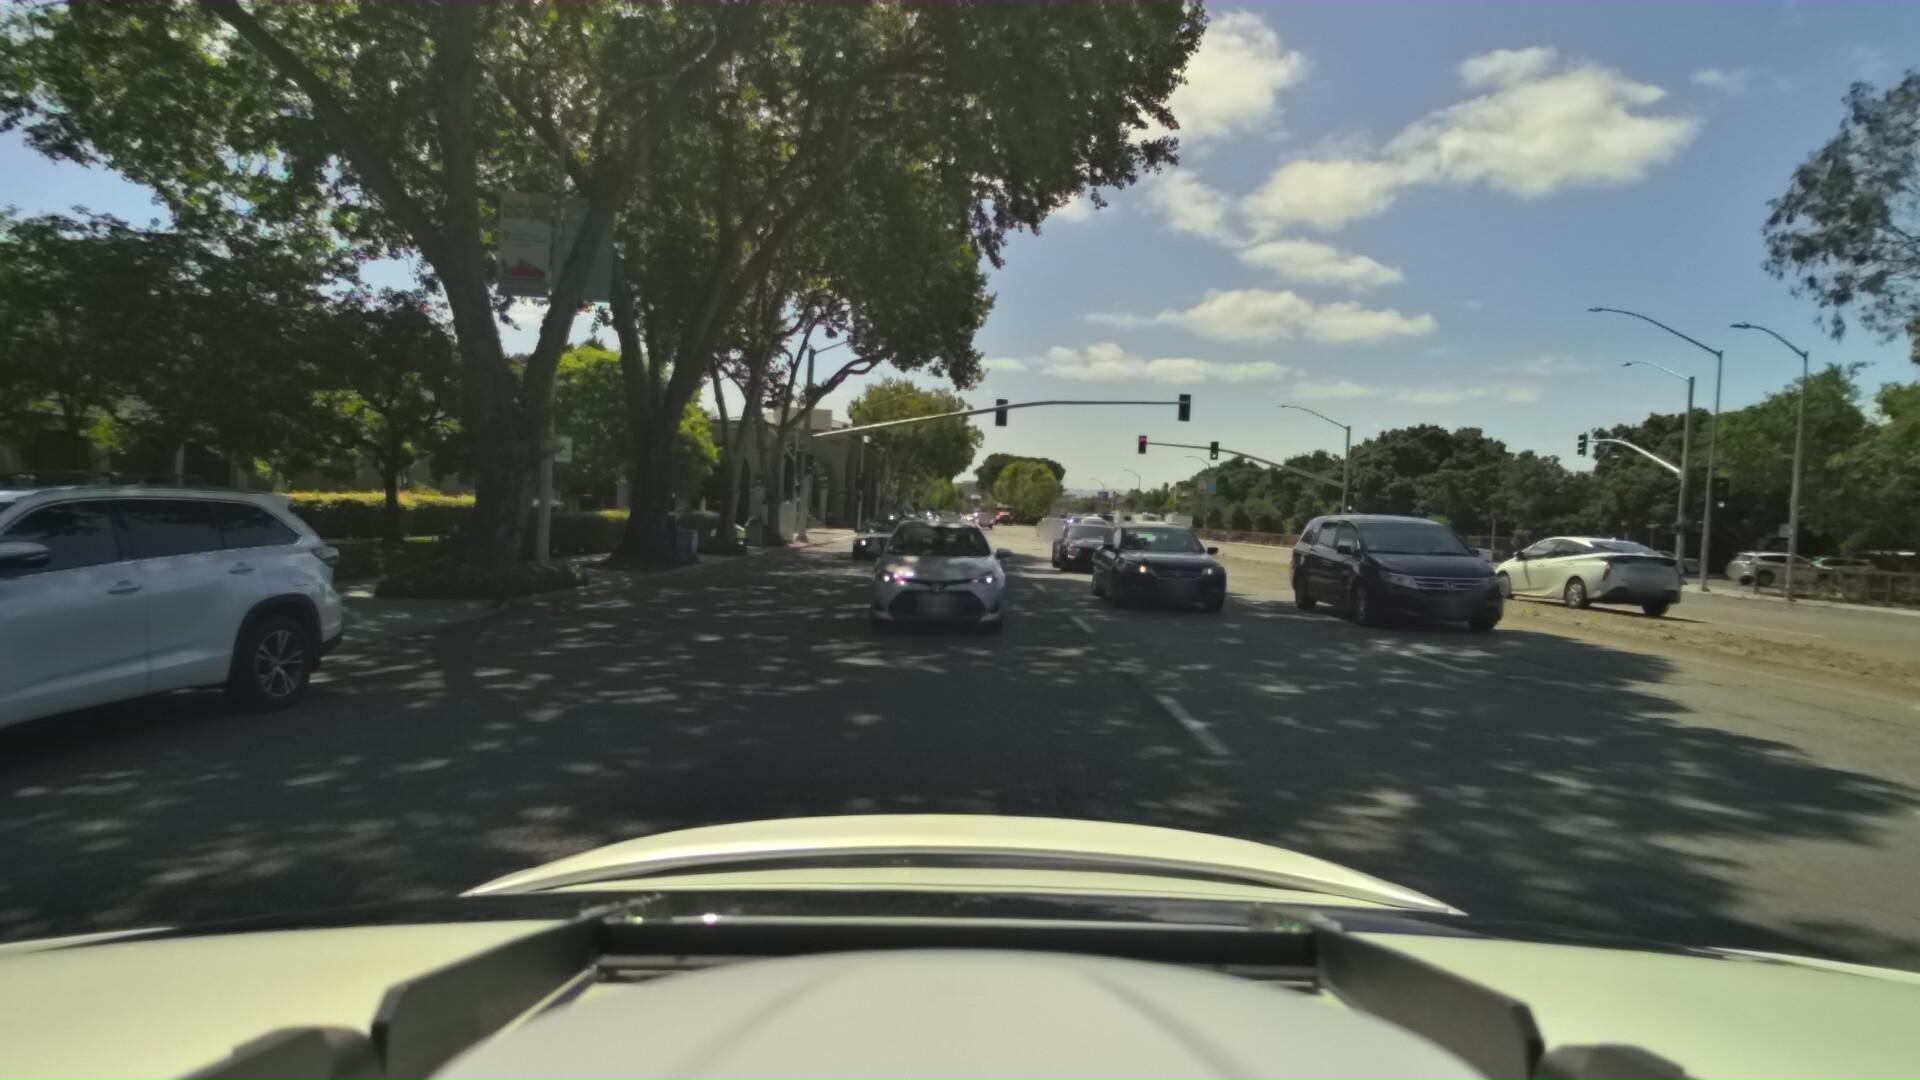car: (1257, 501, 1480, 626), (1474, 524, 1700, 618), (856, 508, 1010, 644), (1073, 506, 1217, 601), (1700, 546, 1829, 589), (1742, 547, 1869, 589), (1039, 512, 1120, 571), (1573, 541, 1695, 578), (839, 509, 906, 560), (1113, 509, 1178, 553), (1063, 510, 1116, 543), (1147, 512, 1185, 542), (1073, 509, 1106, 535), (1030, 512, 1064, 535), (932, 509, 959, 534), (927, 502, 953, 521)
